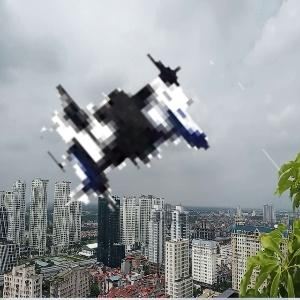drone: (31, 33, 290, 292)
